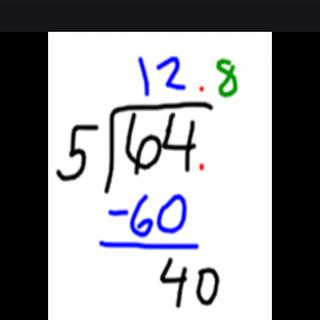.: (198, 158, 208, 178), (195, 81, 208, 96)
0: (154, 191, 189, 241), (190, 262, 221, 311)
1: (136, 53, 154, 100)
2: (154, 52, 188, 93)
4: (162, 112, 197, 177), (155, 251, 190, 315)
5: (54, 119, 102, 185)
6: (122, 112, 162, 179), (130, 189, 154, 239)
8: (213, 55, 240, 100)
